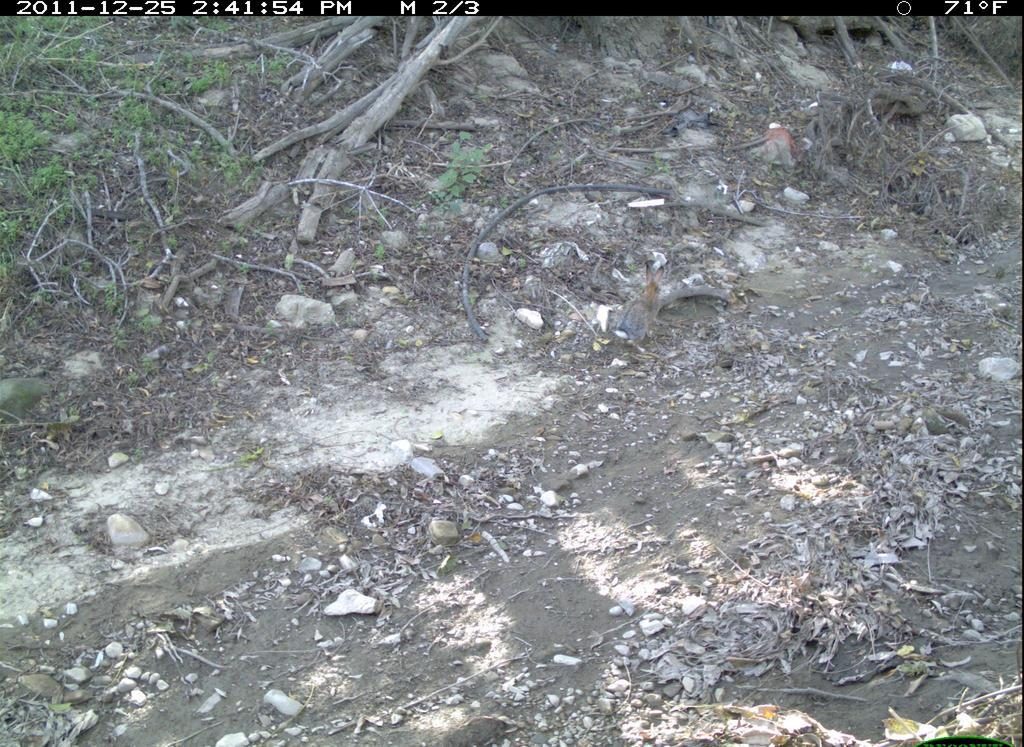rabbit: (604, 257, 676, 355)
